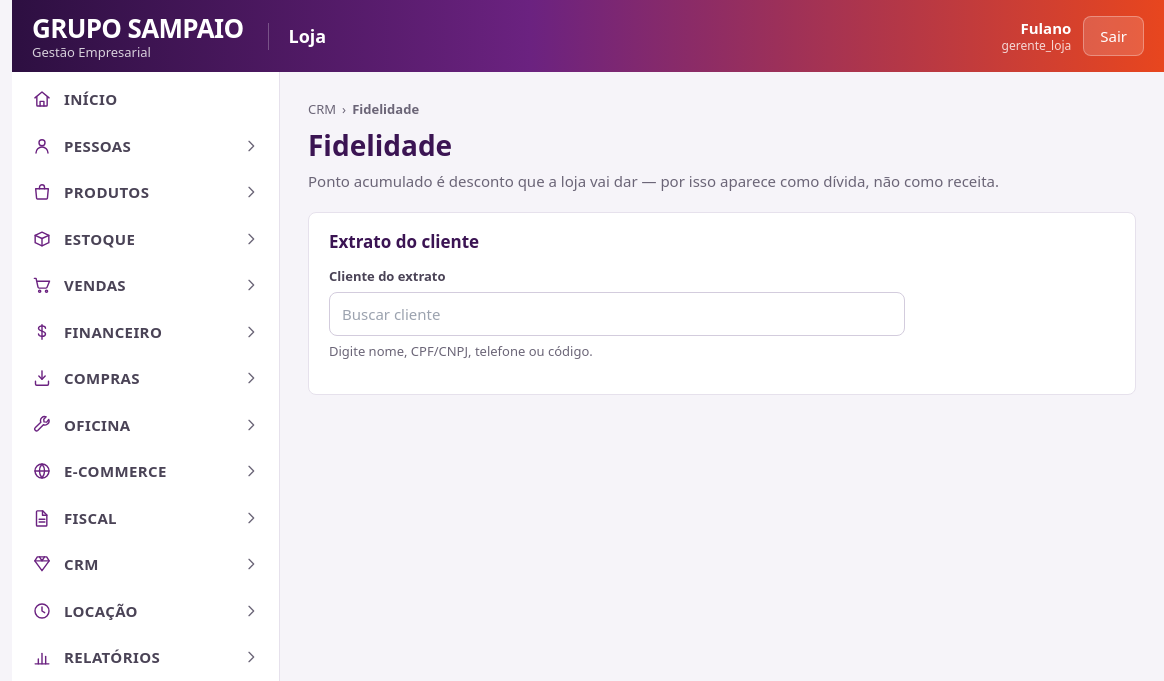
Test: Fidelidade: o extrato de qualquer cliente, por busca › muitos resultados: diz quantos ficaram de fora
Type "Cliente" into the field labelled "Cliente do extrato".
click(617, 314); type("Cliente")  # box [329,292,905,336]
(page scrolled)
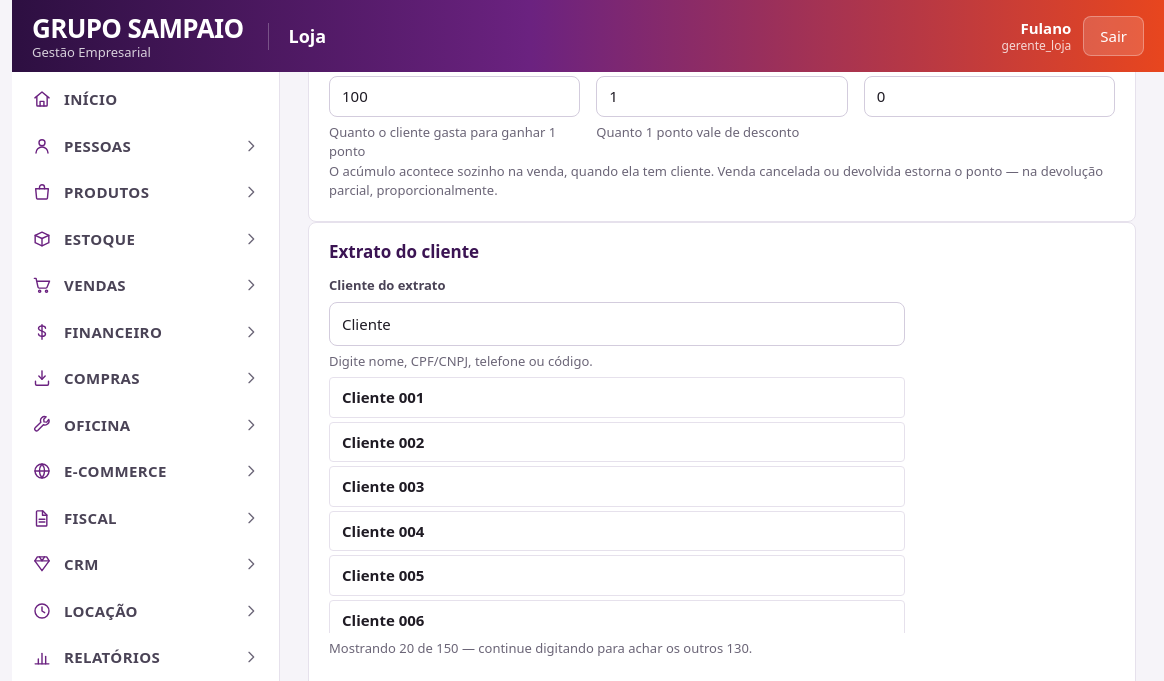
Expected: the text "Mostrando 20 de 150 — continue digitando para achar os outros 130" is shown, [329,639,752,657]
